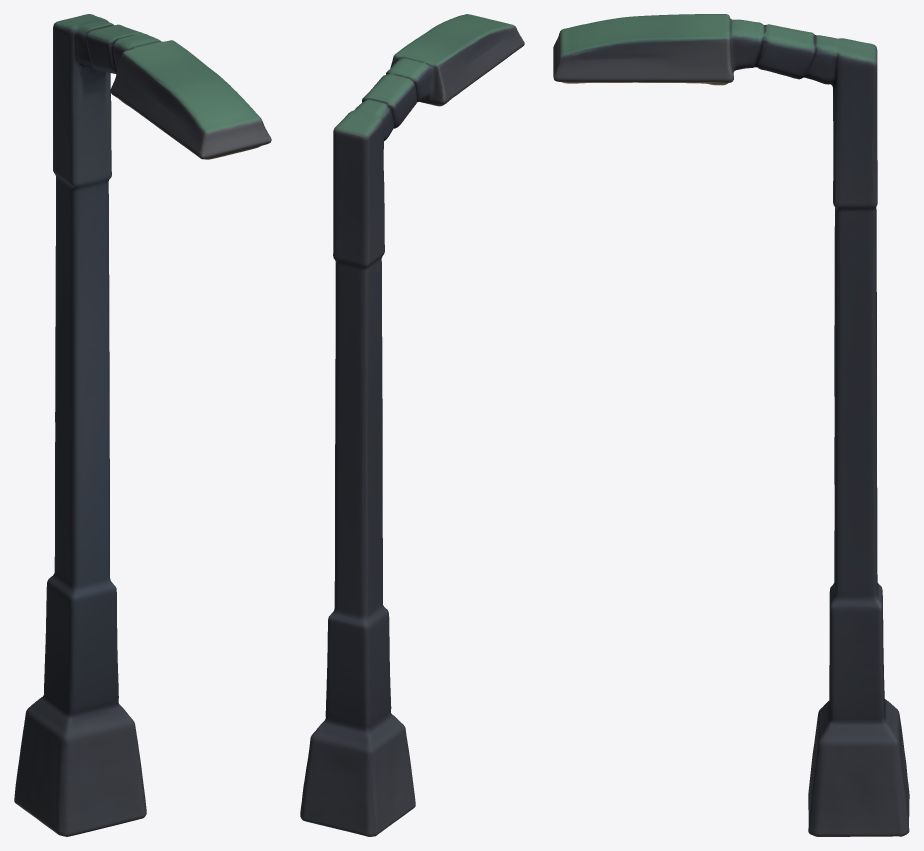
File: streetlight.glb
The picture shows the model from 3 angles, left to right: view 1: azimuth 30°, elevation 25°; view 2: azimuth 150°, elevation 25°; view 3: azimuth 270°, elevation 25°; orthographic projection. The views are drawn at different scales.
Parts seen in each view (by area): view 1: world; view 2: world; view 3: world.
Part boxes in pixels (x1,y1,x2,y2): world: (14, 14, 271, 836); world: (300, 14, 524, 836); world: (553, 14, 909, 836).
Bounding box in the file's own units: 0.1144 × 1 × 0.4079.
Materials: 1 (1 with a texture image).
